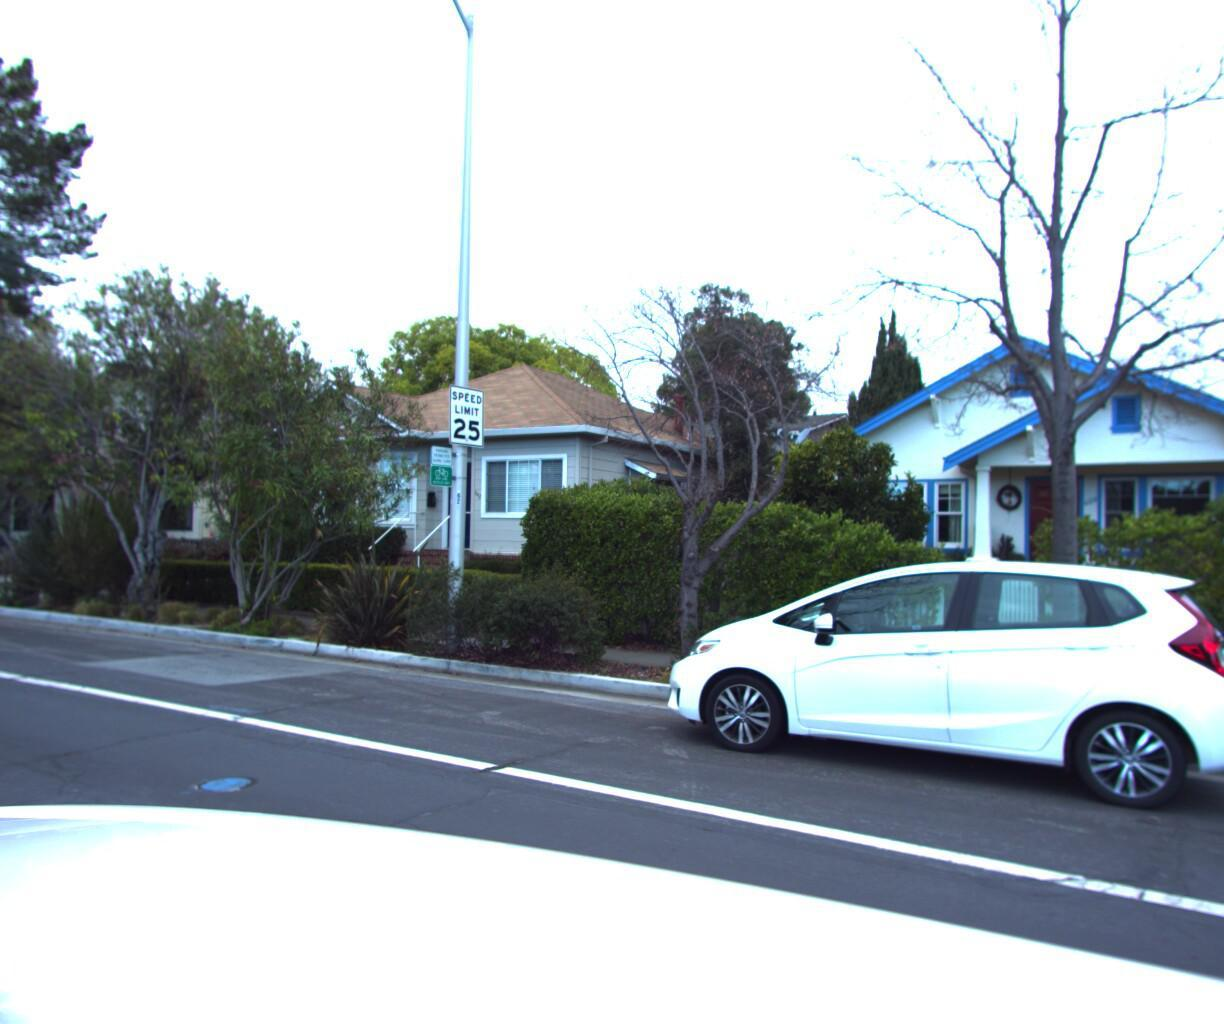car: (625, 532, 1224, 818)
